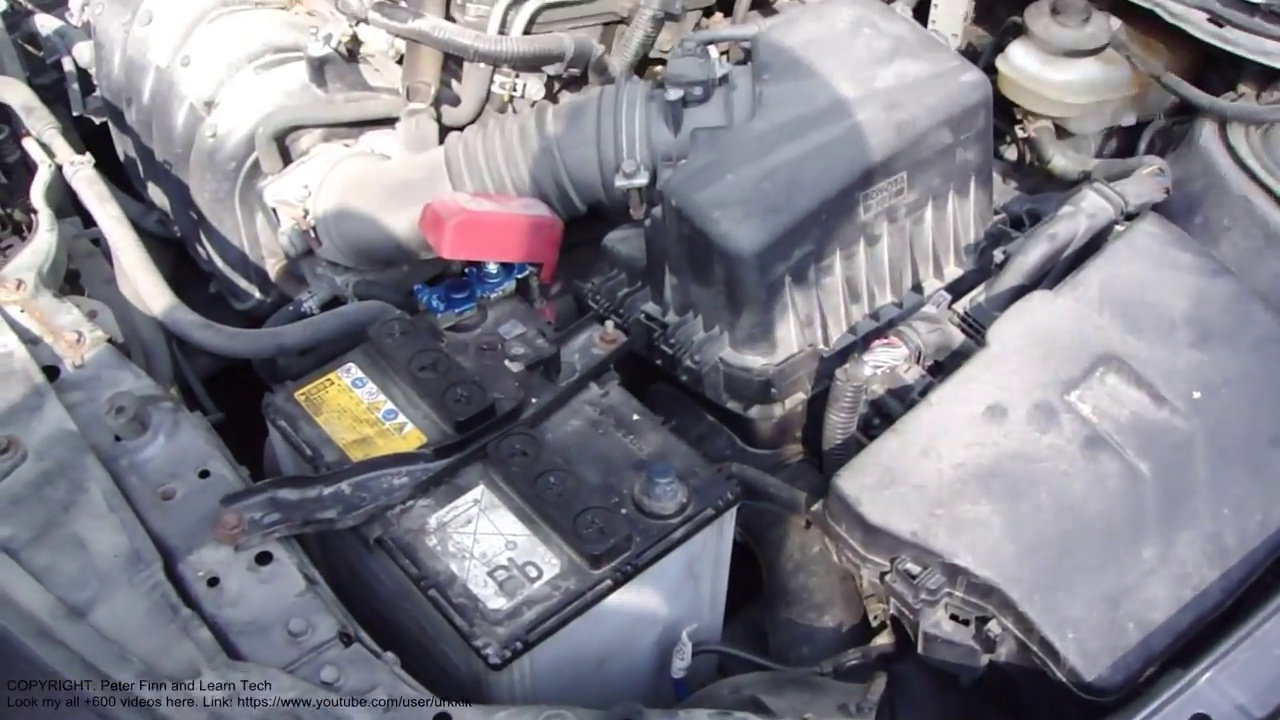battery: (248, 200, 750, 666)
neg_disconnected: (601, 439, 732, 544)
pos_connected: (406, 202, 577, 334)
